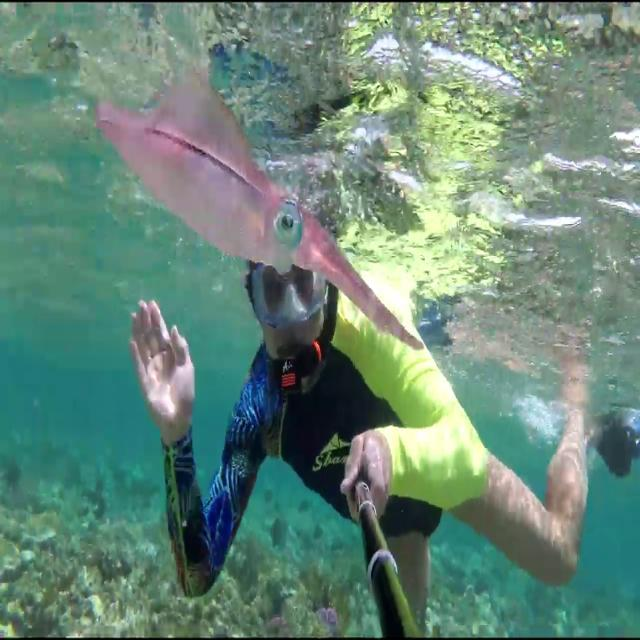squid: (142, 82, 424, 352)
